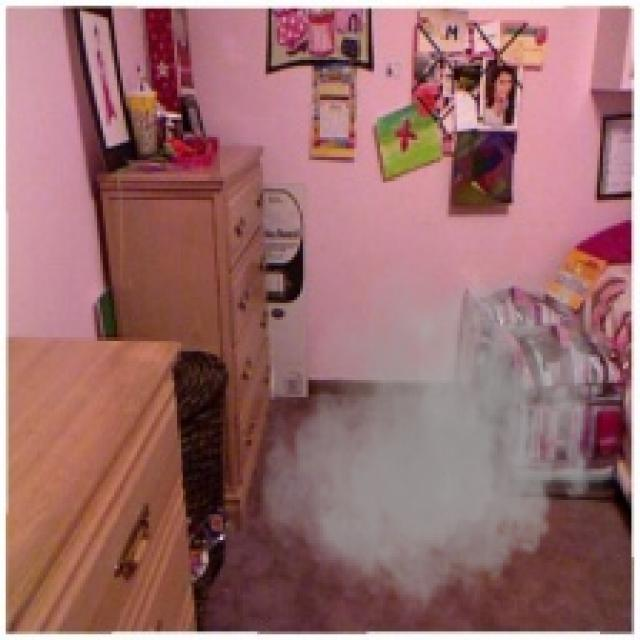smoke: (249, 243, 617, 626)
